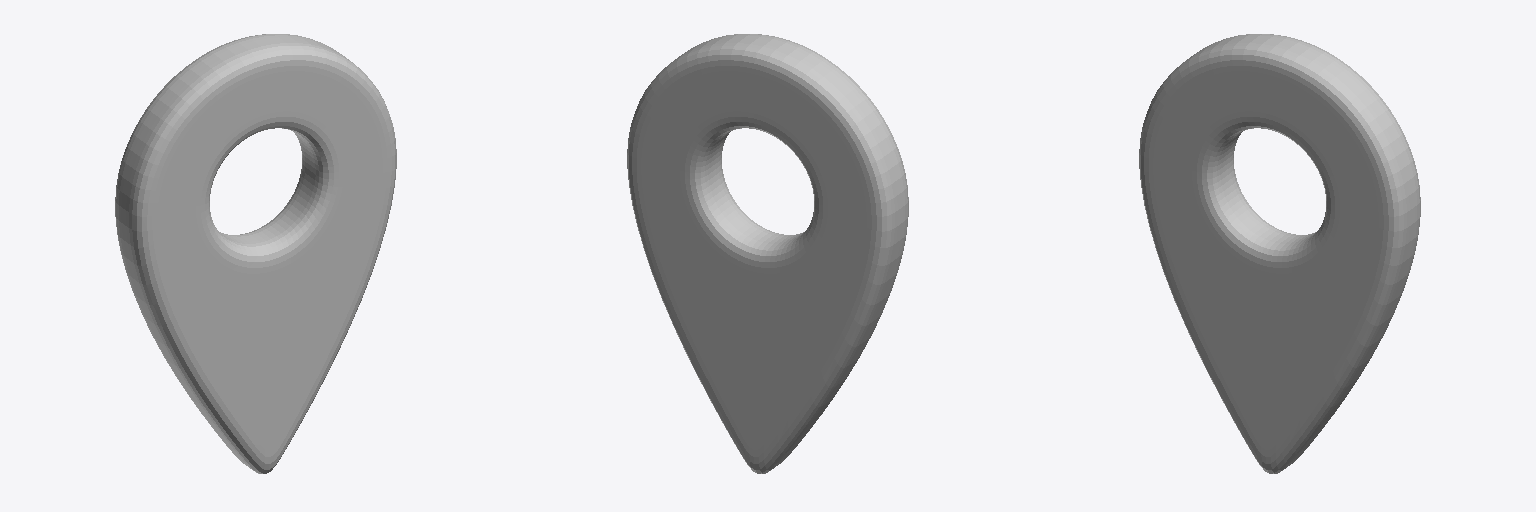
The model's file is map_pointer_v3.obj.
The picture shows the model from 3 angles: view 1: azimuth 30°, elevation 25°; view 2: azimuth 150°, elevation 25°; view 3: azimuth 330°, elevation 25°; orthographic projection.
Visible parts, largest first — view 1: map_pointer_Mesh; view 2: map_pointer_Mesh; view 3: map_pointer_Mesh.
Boxes of the visible parts, <box> form: map_pointer_Mesh: <box>115,34,396,473</box>; map_pointer_Mesh: <box>627,34,908,473</box>; map_pointer_Mesh: <box>1139,34,1420,473</box>.
Bounding box in the file's own units: 0.8812 × 1.36 × 0.161.